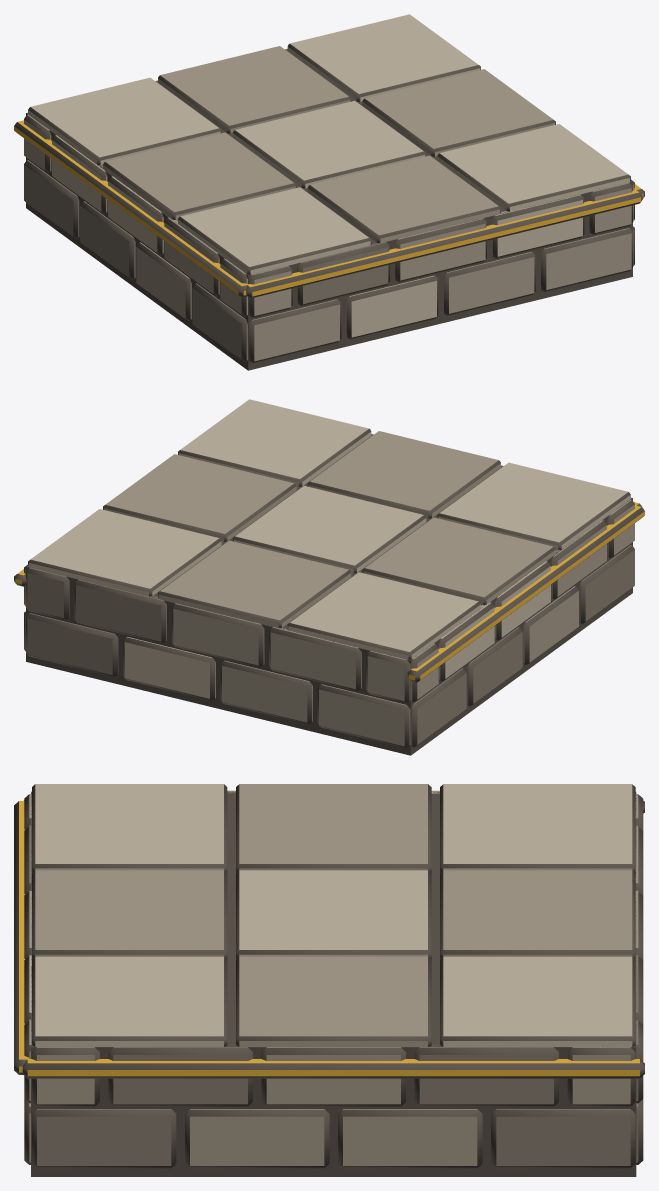
File: tide_roof.glb
3 views of the same model, one above another, from view 1: azimuth 30°, elevation 25°; view 2: azimuth 150°, elevation 25°; view 3: azimuth 270°, elevation 25° (orthographic). The views are drawn at different scales.
Parts seen in each view (by area): view 1: tide_roof; view 2: tide_roof; view 3: tide_roof.
Boxes of the visible parts, left/top/right/bottom form: tide_roof: left=14, top=14, right=644, bottom=370; tide_roof: left=14, top=399, right=644, bottom=755; tide_roof: left=14, top=784, right=644, bottom=1176.
Bounding box in the file's own units: 3.76 × 0.9 × 3.71.
